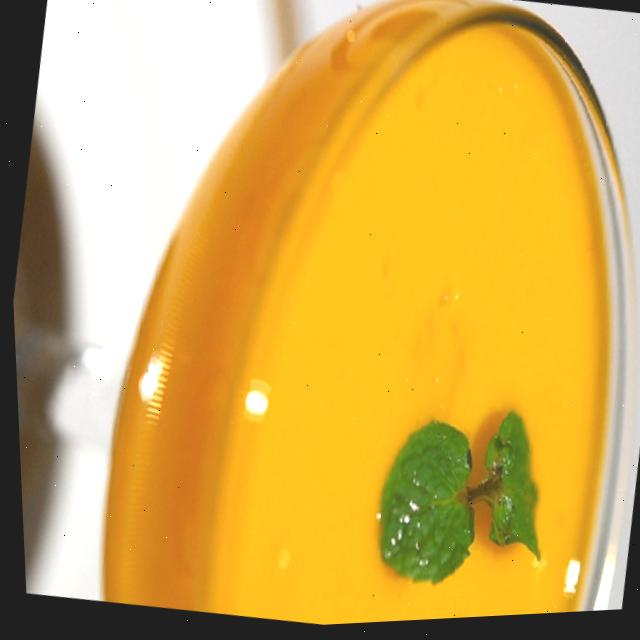蛋糕甜品: (73, 0, 640, 637)
